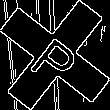P_NE: (25, 24, 85, 86)
